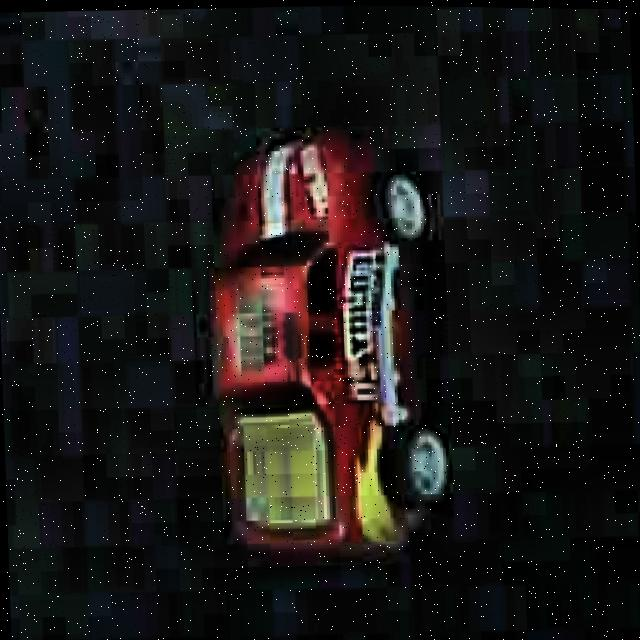car: (192, 115, 468, 572)
